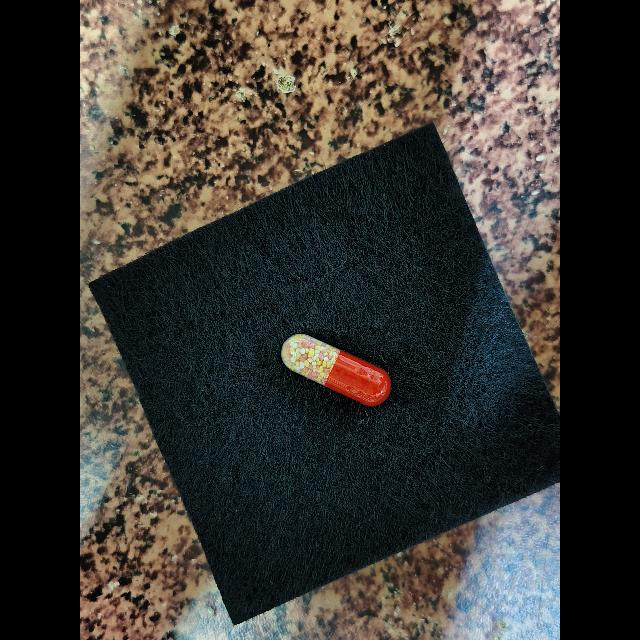Intact Capsule: (281, 333, 391, 406)
